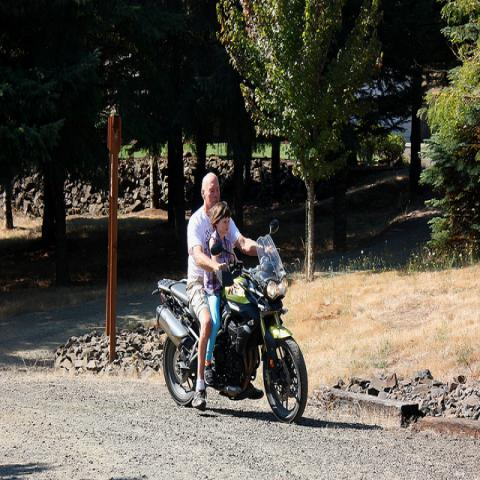motorcycle: (145, 214, 314, 427)
